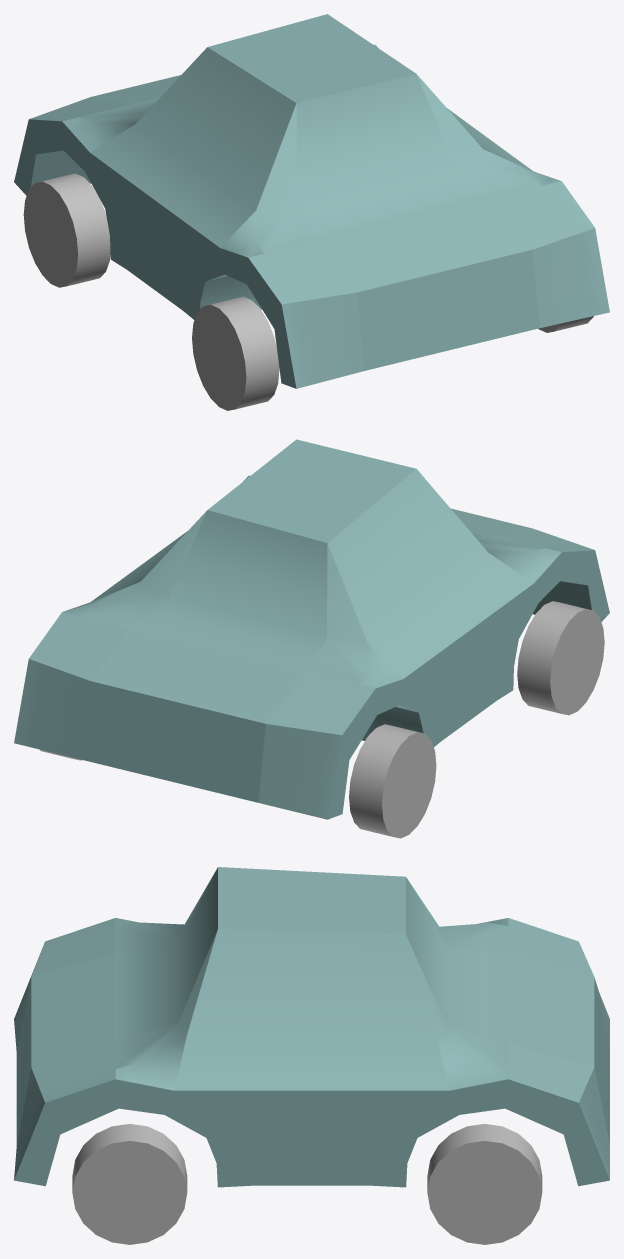
The model's file is car.glb.
3 views of the same model, one above another, from view 1: azimuth 30°, elevation 25°; view 2: azimuth 150°, elevation 25°; view 3: azimuth 270°, elevation 25° (orthographic). The views are drawn at different scales.
Parts seen in each view (by area): view 1: carshell, pCylinder4, pCylinder3; view 2: carshell, pCylinder3, pCylinder4; view 3: carshell, pCylinder2, pCylinder1.
Boxes of the visible parts, x1,y1,x2,y2 form: carshell: (14,14,609,388); pCylinder4: (192,296,279,410); pCylinder3: (23,173,110,287); carshell: (14,439,609,819); pCylinder3: (349,724,436,838); pCylinder4: (517,601,604,715); carshell: (14,867,609,1187); pCylinder2: (72,1124,187,1244); pCylinder1: (427,1124,542,1244).
Size of the model in its own units: 1.28 by 0.846 by 1.77.
